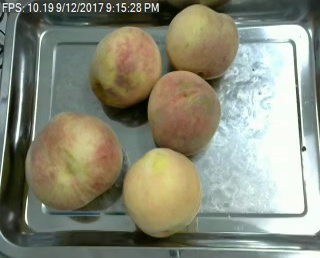Peach: (26, 110, 123, 212), (123, 146, 201, 237), (147, 69, 220, 154), (90, 25, 161, 108), (167, 3, 239, 79)
